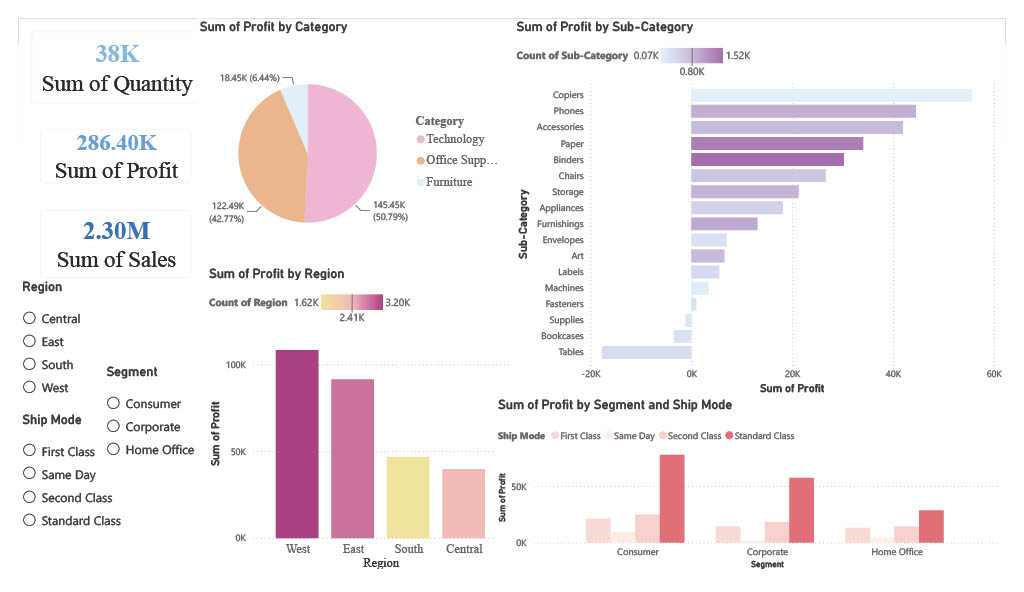

The dashboard page shown, as its layout file describes it:
{"tool":"tableau","page":{"name":"Dashboard 1","canvas":[1155,1000],"ordinal":0},"visuals":[{"type":"worksheet","title":"KPI Sales","mark":"Automatic","box":[3,0,283,127]},{"type":"worksheet","title":"KPI Profit","mark":"Automatic","box":[326.4,2.2,397.3,235.4]},{"type":"legend","title":"Total Keuntungan per Kategori","param":"[federated.0fjwxbr1sdjuak10d6l3g1m5p3al].[none:Category:nk]","box":[987,8,160,86]},{"type":"worksheet","title":"KPI Quantity","mark":"Automatic","box":[755,18.3,384,176.1]},{"type":"legend","title":"Total Keuntungan per Kategori","param":"[federated.0fjwxbr1sdjuak10d6l3g1m5p3al].[sum:Profit:qk]","box":[987,94,160,46]},{"type":"worksheet","title":"Total Keuntungan Setiap Wilayah","mark":"Automatic","rows":["Profit"],"cols":["Region"],"box":[7,113,328,323]},{"type":"worksheet","title":"Total Keuntungan di Tiap Segment pada Masing\" Jenis Pengiriman","mark":"Automatic","rows":["Profit"],"cols":["Segment","Ship Mode"],"box":[545,120,444,562]},{"type":"worksheet","title":"Total Keuntungan per Kategori","mark":"Pie","box":[367,123,432,333]},{"type":"legend","title":"Total Keuntungan & Kerugian per Sub-category","param":"[federated.0fjwxbr1sdjuak10d6l3g1m5p3al].[sum:Profit:qk]","box":[987,140,160,65]},{"type":"legend","title":"Total Keuntungan di Tiap Segment pada Masing\" Jenis Pengiriman","param":"[federated.0fjwxbr1sdjuak10d6l3g1m5p3al].[none:Ship Mode:nk]","box":[987,205,160,106]},{"type":"worksheet","title":"Total Keuntungan & Kerugian per Sub-category","mark":"Automatic","rows":["Sub-Category"],"cols":["Profit"],"box":[3,448,522,461]}]}

Visuals, with their boxes on the page's 1155x1000 design canvas (x1, y1, x2, y2). These are canvas units, not pixel positions in the 1024x592 screenshot, which may show the page scaled, cropped or inside an application window:
"KPI Sales" worksheet: [3, 0, 286, 127]
"KPI Profit" worksheet: [326, 2, 724, 238]
"Total Keuntungan per Kategori" legend: [987, 8, 1147, 94]
"KPI Quantity" worksheet: [755, 18, 1139, 194]
"Total Keuntungan per Kategori" legend: [987, 94, 1147, 140]
"Total Keuntungan Setiap Wilayah" worksheet: [7, 113, 335, 436]
"Total Keuntungan di Tiap Segment pada Masing" Jenis Pengiriman" worksheet: [545, 120, 989, 682]
"Total Keuntungan per Kategori" worksheet (Pie marks): [367, 123, 799, 456]
"Total Keuntungan & Kerugian per Sub-category" legend: [987, 140, 1147, 205]
"Total Keuntungan di Tiap Segment pada Masing" Jenis Pengiriman" legend: [987, 205, 1147, 311]
"Total Keuntungan & Kerugian per Sub-category" worksheet: [3, 448, 525, 909]
